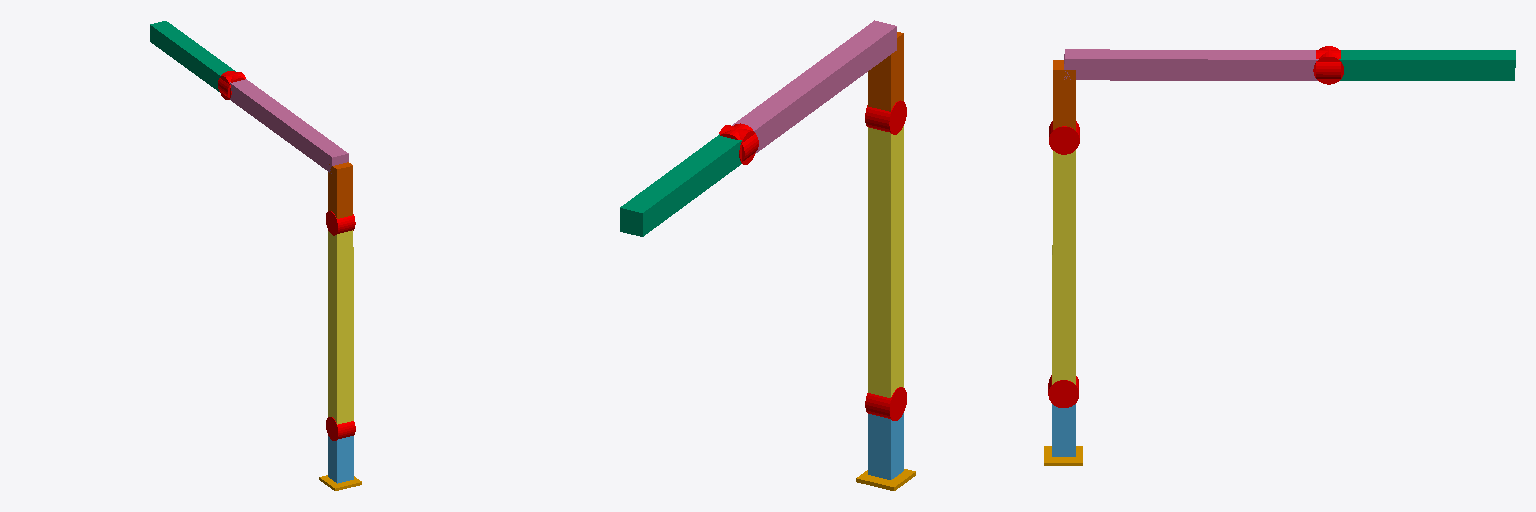
URDF robot description (arm):
<?xml version="1.0"?>
<robot name="arm">

    <!-- links -->

    <link name="base_link">
        <visual>
            <geometry>
                <box size="5 5 0.5"/>
            </geometry>
        </visual>
    </link>

    <link name="link_1">
        <visual>
            <origin xyz="0.0 0.0 -4.25" rpy="0.0 0.0 0.0"/>
            <geometry>
                <box size="3 3 9.5"/>
            </geometry> 
        </visual>
    </link>

    <link name="link1_joint">
        <visual>
            <origin xyz="0.0 0.0 0.0" rpy="0.0 1.57 0.0"/>
            <geometry>
                <cylinder radius="2" length="3.2"/>
            </geometry>
            <material name="red">
                <color rgba="1.0 0.0 0.0 1.0"/>
            </material>
        </visual>
    </link>

    <link name="link_2">
        <visual name="">
            <origin xyz="0.0 0.0 -18" rpy="0.0 0.0 0.0"/>
            <geometry>
                <box size="3 3 36"/>
            </geometry>
        </visual>
    </link>

    <link name="link2_joint">
        <visual>
            <origin xyz="0.0 0.0 -36" rpy="0.0 1.57 0.0"/>
            <geometry>
                <cylinder radius="2" length="3.2"/>
            </geometry>
            <material name="red">
                <color rgba="1.0 0.0 0.0 1.0"/>
            </material>
        </visual>
    </link>

    <link name="link_3_r3">
        <visual name="">
            <origin xyz="0.0 0.0 -5" rpy="0.0 0.0 0.0"/>
            <geometry>
                <box size="3 3 10"/>
            </geometry>
        </visual>
    </link>

    <link name="link_3_d4">
        <visual name="">
            <origin xyz="0 -17 0" rpy="0.0 0.0 0.0"/>
            <geometry>
                <box size="3 34 3"/>
            </geometry>
        </visual>
    </link>

    <link name="link3_joint">
        <visual>
            <origin xyz="0.0 0.0 0.0" rpy="1.57 0 0.0"/>
            <geometry>
                <cylinder radius="2" length="3.2"/>
            </geometry>
            <material name="red">
                <color rgba="1.0 0.0 0.0 1.0"/>
            </material>
        </visual>
    </link>

    <link name="wrist_pitch">
        <visual>
            <origin xyz="0.0 0.0 0.0" rpy="0 1.57 0.0"/>
            <geometry>
                <cylinder radius="2" length="3.2"/>
            </geometry>
            <material name="red">
                <color rgba="1.0 0.0 0.0 1.0"/>
            </material>
        </visual>
    </link>

    <link name="wrist_roll">
        <visual>
            <origin xyz="0.0 0.0 0.0" rpy="1.57 0 0.0"/>
            <geometry>
                <cylinder radius="2" length="3.2"/>
            </geometry>
            <material name="red">
                <color rgba="1.0 0.0 0.0 1.0"/>
            </material>
        </visual>
    </link>

    <link name="link_5">
        <visual name="">
            <origin xyz="0 -12.5 0" rpy="1.57 0.0 0.0"/>
            <geometry>
                <box size="3 3 23"/>
            </geometry>
        </visual>
    </link>

    <!-- Joints -->

    <joint name="Joint_1" type="continuous">
        <origin xyz="0.0 0.0 9.5" rpy="0.0 0.0 0.0"/>
        <parent link="base_link"/>
        <child link="link_1"/>
        <axis xyz="0.0 0.0 1"/>
        <limit lower="0.0" upper="0.0" effort="0.0" velocity="0.0"/>
    </joint>

    <joint name="joint_1_extra" type="fixed">
        <origin xyz="0.0 0.0 0" rpy="0.0 0.0 0.0"/>
        <parent link="link_1"/>
        <child link="link1_joint"/>
        <axis xyz="0.0 0.0 0.0"/>
        <limit lower="0.0" upper="0.0" effort="0.0" velocity="0.0"/>
    </joint>

    <joint name="Joint_2" type="continuous">
        <origin xyz="0.0 0.0 0" rpy="3.14 0.0 0.0"/>
        <parent link="link1_joint"/>
        <child link="link_2"/>
        <axis xyz="1 0.0 0.0"/>
        <limit lower="0.0" upper="0.0" effort="0.0" velocity="0.0"/>
    </joint>

    <joint name="joint_2_extra" type="fixed">
        <origin xyz="0.0 0.0 0" rpy="0.0 0.0 0.0"/>
        <parent link="link_2"/>
        <child link="link2_joint"/>
        <axis xyz="0.0 0.0 0.0"/>
        <limit lower="0.0" upper="0.0" effort="0.0" velocity="0.0"/>
    </joint>

    <joint name="Joint_3" type="continuous">
        <origin xyz="0.0 0.0 -36" rpy="0.0 0.0 0.0"/>
        <parent link="link2_joint"/>
        <child link="link_3_r3"/>
        <axis xyz="1 0.0 0.0"/>
        <limit lower="0.0" upper="0.0" effort="0.0" velocity="0.0"/>
    </joint>

    <joint name="joint3_internal" type="fixed">
        <origin xyz="0.0 0.0 -10" rpy="0.0 0.0 0.0"/>
        <parent link="link_3_r3"/>
        <child link="link_3_d4"/>
        <axis xyz="0.0 0.0 0.0"/>
        <limit lower="0.0" upper="0.0" effort="0.0" velocity="0.0"/>
    </joint>

    <joint name="joint_3_extra" type="fixed">
        <origin xyz="0.0 -34 0" rpy="0.0 0.0 0.0"/>
        <parent link="link_3_d4"/>
        <child link="link3_joint"/>
        <axis xyz="1 0.0 0.0"/>
        <limit lower="0.0" upper="0.0" effort="0.0" velocity="0.0"/>
    </joint>

    <joint name="Joint_4" type="continuous">
        <origin xyz="0.0 0 0" rpy="0.0 0.0 0.0"/>
        <parent link="link3_joint"/>
        <child link="wrist_pitch"/>
        <axis xyz="0 1 0"/>
        <limit lower="0.0" upper="0.0" effort="0.0" velocity="0.0"/>
    </joint>

    <joint name="Joint_5" type="continuous">
        <origin xyz="0.0 0 0" rpy="0.0 0.0 0.0"/>
        <parent link="wrist_pitch"/>
        <child link="wrist_roll"/>
        <axis xyz="1 0 0.0"/>
        <limit lower="0.0" upper="0.0" effort="0.0" velocity="0.0"/>
    </joint>

    <joint name="Joint_6" type="continuous">
        <origin xyz="0.0 0.0 0" rpy="0.0 0.0 0.0"/>
        <parent link="wrist_roll"/>
        <child link="link_5"/>
        <axis xyz="0 1 0.0"/>
        <limit lower="0.0" upper="0.0" effort="0.0" velocity="0.0"/>
    </joint>

</robot>

--- Render facts (derived) ---
3 views of the same robot in one strip: view 1: azimuth 30°, elevation 25°; view 2: azimuth 150°, elevation 25°; view 3: azimuth 270°, elevation 25° (orthographic).
Model arm with 11 links and 10 joints (6 continuous, 4 fixed), rooted at base_link, posed every joint at zero.
Visible links, largest first — view 1: link_2, link_3_d4, link_5, link_3_r3, link_1; view 2: link_2, link_3_d4, link_5, link_1, link_3_r3, link2_joint, link1_joint, base_link; view 3: link_3_d4, link_2, link_5, link_3_r3, link_1, link2_joint, link1_joint, link3_joint.
Link boxes in pixels (bbox=[...]): link_2: bbox=[328, 230, 353, 424]; link_3_d4: bbox=[230, 79, 348, 173]; link_5: bbox=[150, 21, 235, 91]; link_3_r3: bbox=[328, 162, 352, 218]; link_1: bbox=[328, 436, 353, 483]; link_2: bbox=[868, 126, 903, 397]; link_3_d4: bbox=[732, 20, 896, 153]; link_5: bbox=[620, 134, 741, 236]; link_1: bbox=[868, 413, 903, 479]; link_3_r3: bbox=[868, 32, 903, 111]; link2_joint: bbox=[865, 100, 906, 134]; link1_joint: bbox=[865, 387, 906, 420]; base_link: bbox=[856, 469, 915, 490]; link_3_d4: bbox=[1064, 49, 1318, 80]; link_2: bbox=[1052, 150, 1075, 384]; link_5: bbox=[1339, 50, 1515, 80]; link_3_r3: bbox=[1053, 60, 1075, 130]; link_1: bbox=[1052, 404, 1075, 456]; link2_joint: bbox=[1049, 121, 1079, 154]; link1_joint: bbox=[1048, 375, 1078, 407]; link3_joint: bbox=[1316, 50, 1340, 78].
Size in the robot's own frame: 5 by 60.58 by 57.7 metres.
Geometry: primitives only (box / cylinder / sphere), no mesh files.